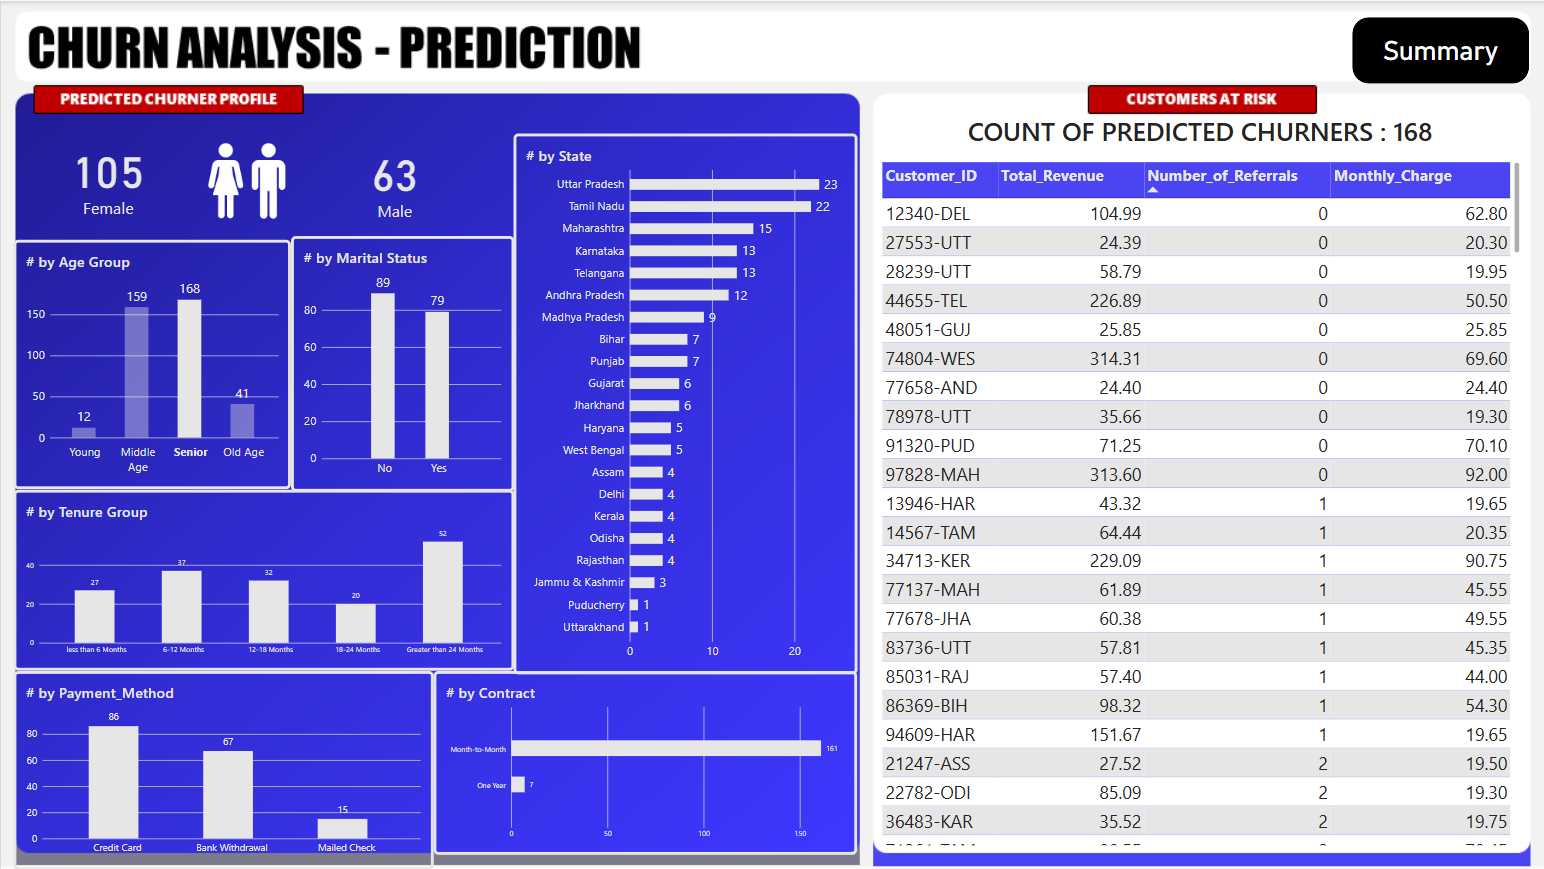

This screenshot's page, from the dashboard's own definition file:
{"tool":"powerbi","page":{"name":"Churn Prediction","canvas":[2560,1440],"ordinal":2},"visuals":[{"type":"tableEx","fields":{"Values":["Predictions.Customer_ID","Predictions.Total_Revenue","Predictions.Number_of_Referrals","Predictions.Monthly_Charge"]},"box":[1443.5,253.9,1089.3,1163.1],"z":0},{"type":"card","fields":{"Values":["Tbl_Measures.Title Predicted Churner"]},"box":[1496.7,135.8,983,159.4],"z":1000},{"type":"card","fields":{"Values":["Tbl_Measures.Count Predicted Churner"]},"box":[38.4,197.8,277.5,191.9],"z":2000},{"type":"card","fields":{"Values":["Tbl_Measures.Count Predicted Churner"]},"box":[498.9,200.7,307,191.9],"z":3000},{"type":"clusteredColumnChart","fields":{"Category":["Mapping_groupAge.Age Group"],"Y":["CountNonNull(Predictions.Customer_ID)"]},"box":[20,396,460,413.3],"z":4000},{"type":"clusteredColumnChart","fields":{"Category":["Predictions.Married"],"Y":["CountNonNull(Predictions.Customer_ID)"]},"box":[480,390,370,424],"z":5000},{"type":"clusteredColumnChart","fields":{"Category":["Predictions.Payment_Method"],"Y":["CountNonNull(Predictions.Customer_ID)"]},"box":[20,1110,696.7,330],"z":7000},{"type":"clusteredColumnChart","fields":{"Category":["Mapping_groupTenure.Tenure Group"],"Y":["CountNonNull(Predictions.Customer_ID)"]},"box":[20,810,830,300],"z":7500},{"type":"clusteredBarChart","fields":{"Category":["Predictions.State"],"Y":["CountNonNull(Predictions.Customer_ID)"]},"box":[850,220,570,896.7],"z":8000},{"type":"clusteredBarChart","fields":{"Category":["Predictions.Contract"],"Y":["CountNonNull(Predictions.Customer_ID)"]},"box":[717.1,1110.9,702.6,304.7],"z":9000},{"type":"image","box":[312.9,218.5,188.9,159.4],"z":10000},{"type":"shape","box":[2240,26.7,293.3,110],"z":11000}]}

Visuals, with their boxes in screenshot pixels (x1, y1, x2, y2), scaled from the page's 2560x1440 canvas onto the 1544x869 screenshot:
tableEx - Predictions.Customer_ID x Predictions.Total_Revenue: Rect(871, 153, 1528, 855)
card - Tbl_Measures.Title Predicted Churner: Rect(903, 82, 1496, 178)
card - Tbl_Measures.Count Predicted Churner: Rect(23, 119, 191, 235)
card - Tbl_Measures.Count Predicted Churner: Rect(301, 121, 486, 237)
clusteredColumnChart - Mapping_groupAge.Age Group x CountNonNull(Predictions.Customer_ID): Rect(12, 239, 290, 488)
clusteredColumnChart - Predictions.Married x CountNonNull(Predictions.Customer_ID): Rect(290, 235, 513, 491)
clusteredColumnChart - Predictions.Payment_Method x CountNonNull(Predictions.Customer_ID): Rect(12, 670, 432, 868)
clusteredColumnChart - Mapping_groupTenure.Tenure Group x CountNonNull(Predictions.Customer_ID): Rect(12, 489, 513, 670)
clusteredBarChart - Predictions.State x CountNonNull(Predictions.Customer_ID): Rect(513, 133, 856, 674)
clusteredBarChart - Predictions.Contract x CountNonNull(Predictions.Customer_ID): Rect(433, 670, 856, 854)
image: Rect(189, 132, 303, 228)
shape: Rect(1351, 16, 1528, 82)
